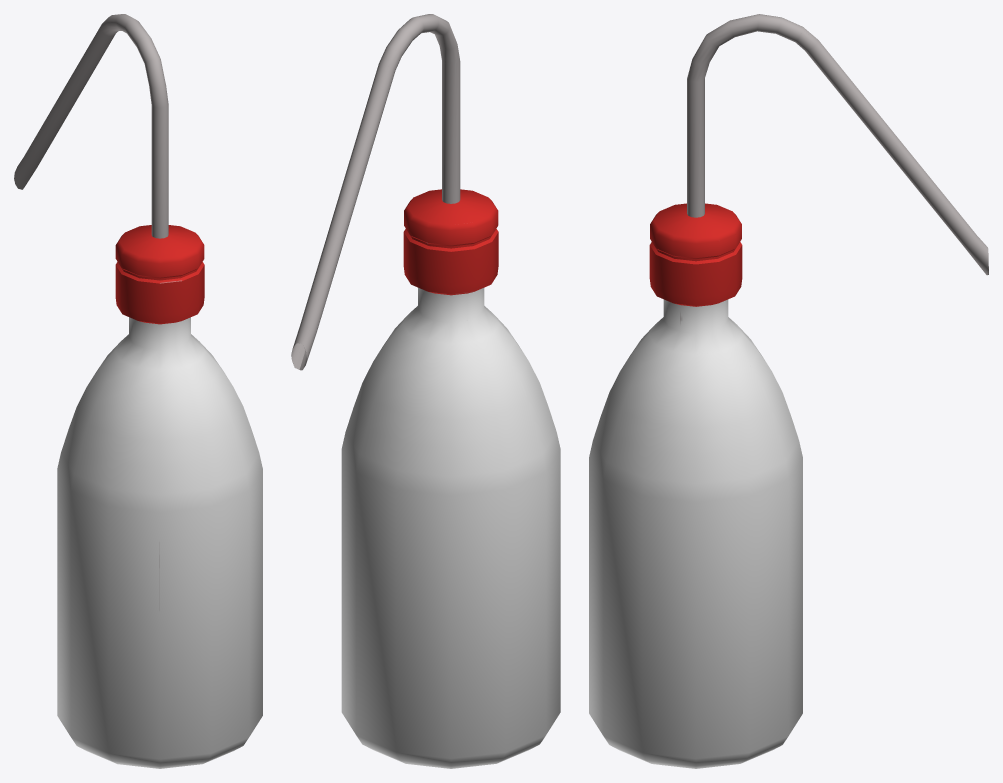
Rendered from Lab_Tools_.Bottle_01.fbx.
3 renders of one model, left to right at view 1: azimuth 30°, elevation 25°; view 2: azimuth 150°, elevation 25°; view 3: azimuth 270°, elevation 25°, orthographic. The views are drawn at different scales.
Parts seen in each view (by area): view 1: Lab_Bootle_01; view 2: Lab_Bootle_01; view 3: Lab_Bootle_01.
Boxes of the visible parts, left/top/right/bottom form: Lab_Bootle_01: left=14, top=14, right=262, bottom=768; Lab_Bootle_01: left=291, top=14, right=560, bottom=768; Lab_Bootle_01: left=589, top=14, right=988, bottom=768.
Bounding box in the file's own units: 0.0943 × 0.3493 × 0.1763.
